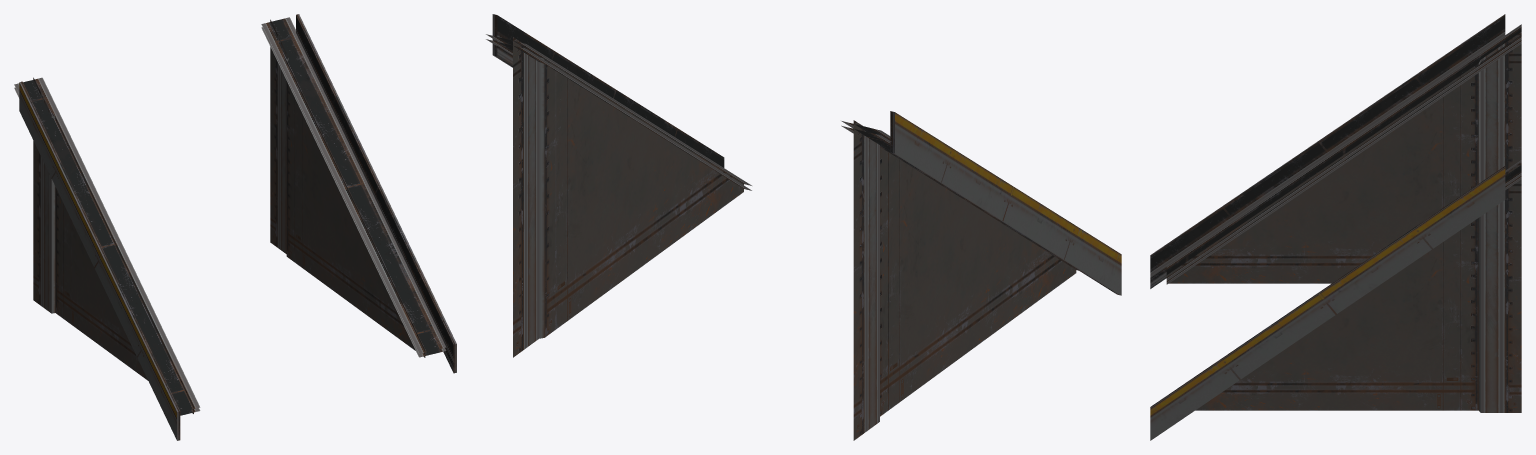
Rendered from Concrete_Wall1_Stairs1_Side_L2.fbx.
The picture shows the model from 3 angles, left to right: view 1: azimuth 30°, elevation 25°; view 2: azimuth 150°, elevation 25°; view 3: azimuth 270°, elevation 25°; orthographic projection. The views are drawn at different scales.
Visible parts, largest first — view 1: Concrete_Wall1_Stairs1_Side_L2; view 2: Concrete_Wall1_Stairs1_Side_L2; view 3: Concrete_Wall1_Stairs1_Side_L2.
Boxes of the visible parts, <box> form: Concrete_Wall1_Stairs1_Side_L2: <box>14,14,456,440</box>; Concrete_Wall1_Stairs1_Side_L2: <box>486,14,1121,440</box>; Concrete_Wall1_Stairs1_Side_L2: <box>1150,14,1521,440</box>.
Size of the model in its own units: 409 by 340 by 418.
